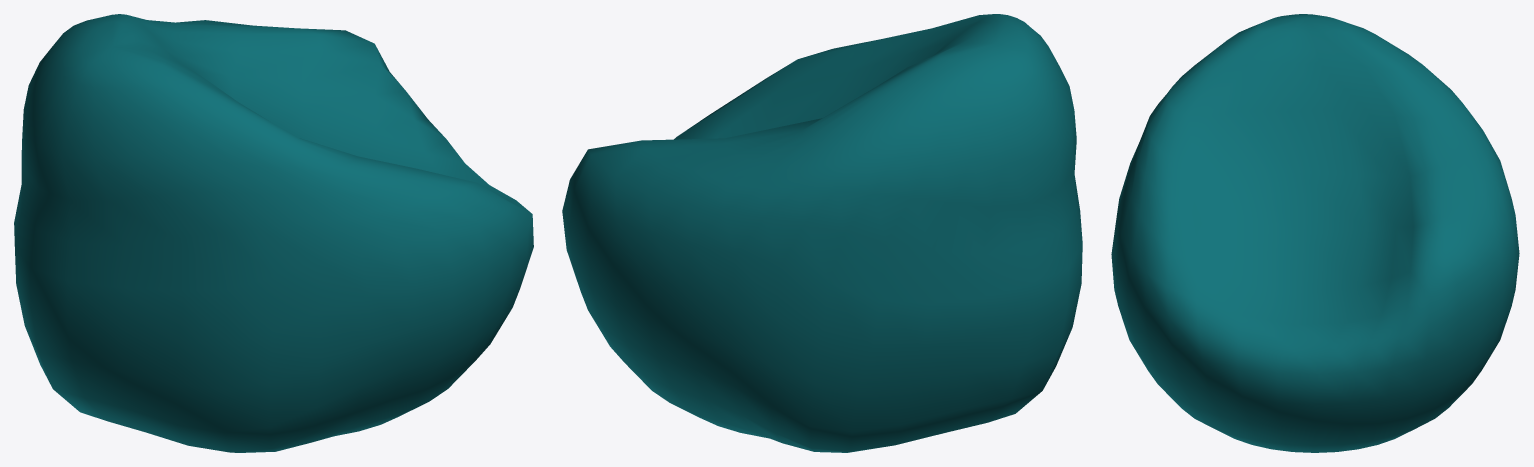
File: Pouf.fbx
3 views of the same model, side by side, from view 1: azimuth 30°, elevation 25°; view 2: azimuth 150°, elevation 25°; view 3: azimuth 270°, elevation 25° (orthographic). The views are drawn at different scales.
Visible parts, largest first — view 1: Sphere; view 2: Sphere; view 3: Sphere.
Boxes of the visible parts, x1,y1,x2,y2 form: Sphere: [14, 14, 533, 452]; Sphere: [562, 14, 1082, 452]; Sphere: [1111, 14, 1519, 452].
Size of the model in its own units: 298 by 239 by 275.
